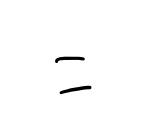eqv: (49, 53, 96, 96)
